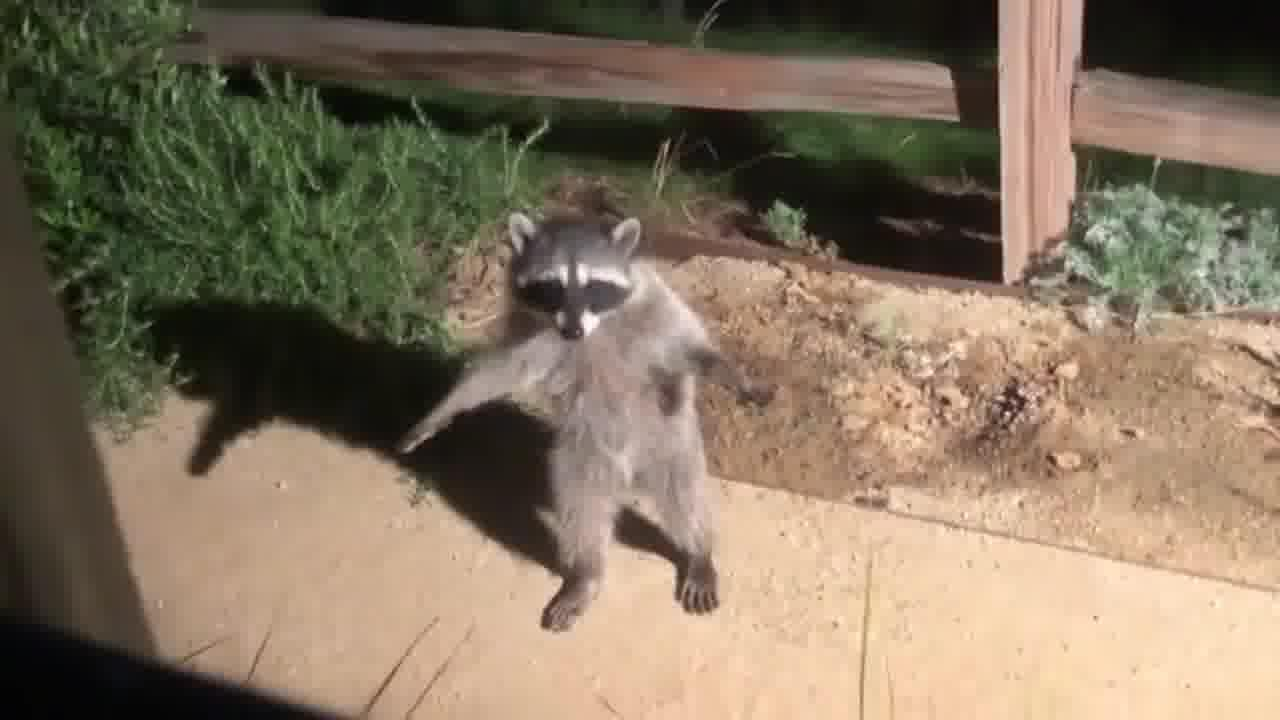raccoon: (381, 193, 787, 647)
